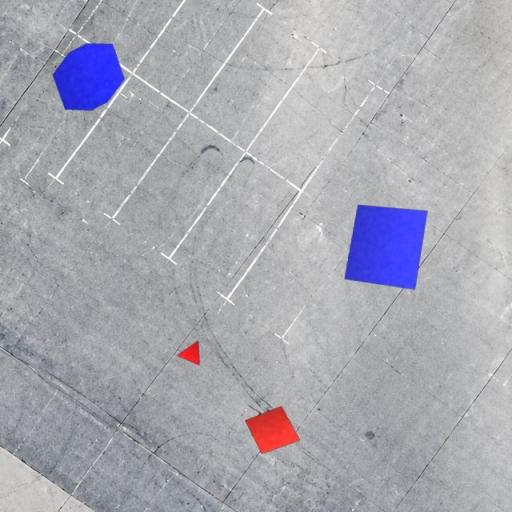BLUE_SQUARE: (343, 204, 428, 290)
RED_SQUARE: (244, 406, 302, 454)
